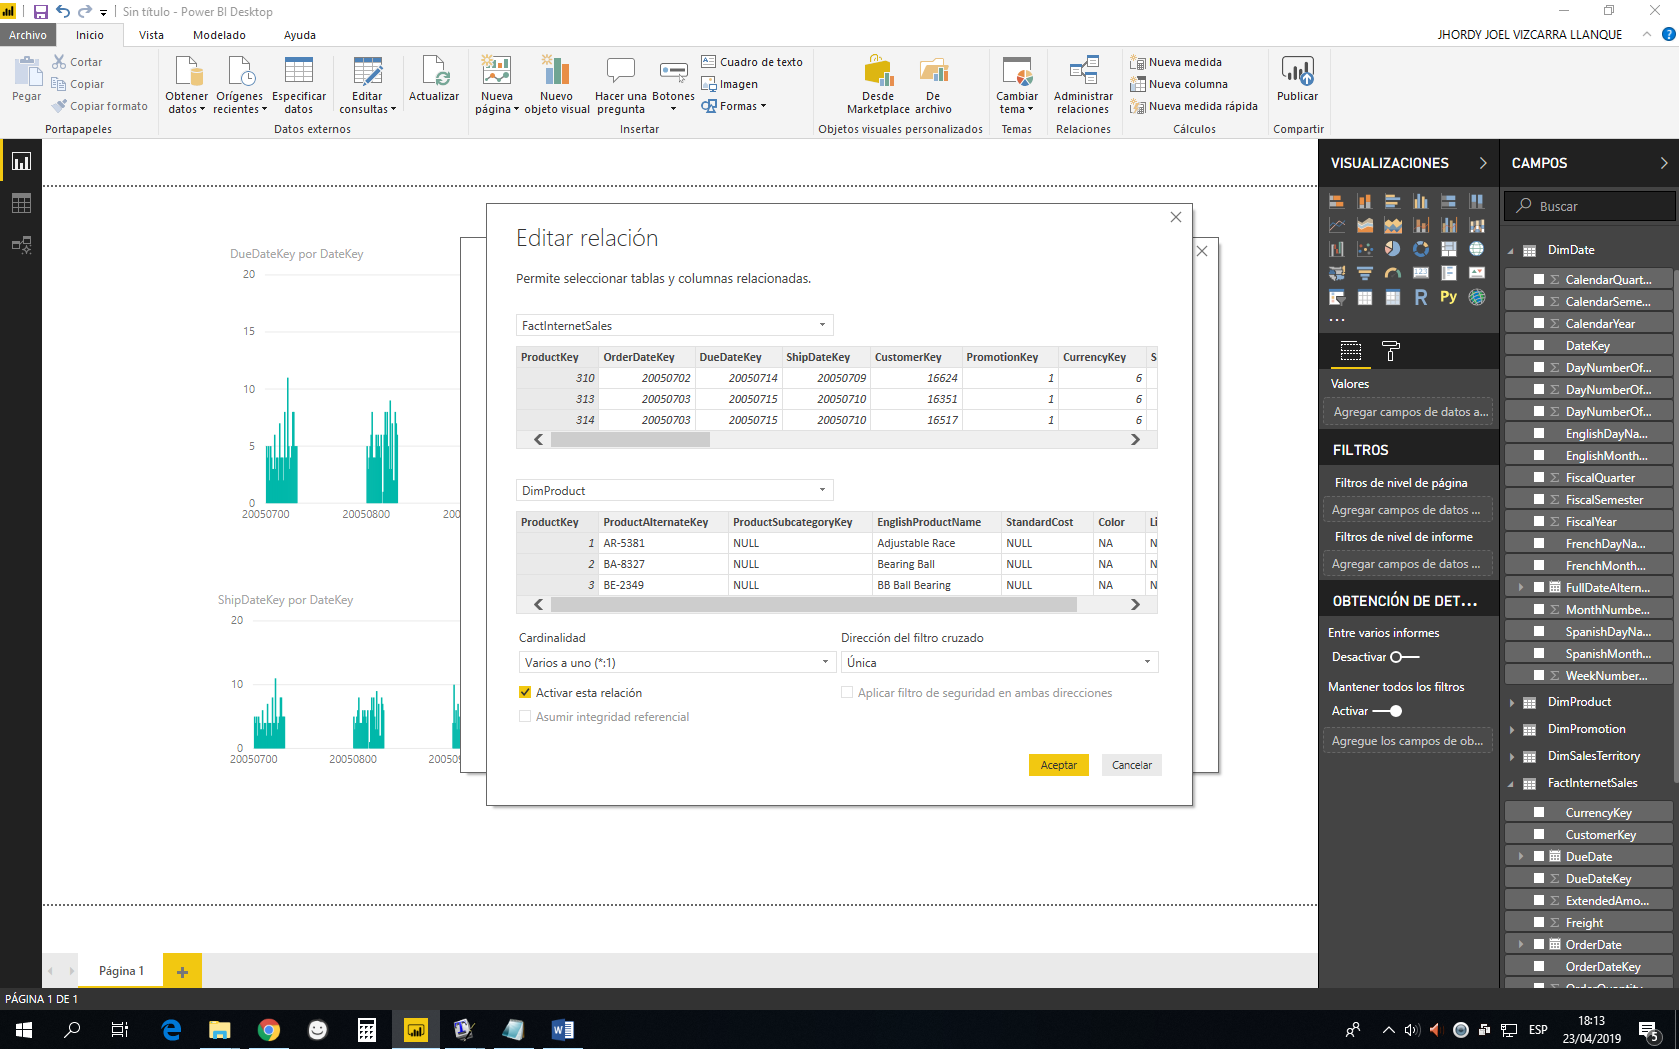

Layout of this report page (visuals, bound fields, positions):
{"tool":"powerbi","page":{"name":"Página 1","canvas":[1280,720],"ordinal":0},"visuals":[{"type":"clusteredColumnChart","fields":{"Y":["CountNonNull(FactInternetSales.DueDateKey)"],"Category":["DimDate.DateKey"]},"box":[183.6,58.2,626,287.9],"z":1},{"type":"clusteredColumnChart","fields":{"Y":["CountNonNull(FactInternetSales.ShipDateKey)"],"Category":["DimDate.DateKey"]},"box":[171.5,405.3,618.9,186.6],"z":2}]}

Visuals, with their boxes on the page's 1280x720 design canvas (x1, y1, x2, y2). These are canvas units, not pixel positions in the 1679x1049 screenshot, which may show the page scaled, cropped or inside an application window:
clusteredColumnChart - CountNonNull(FactInternetSales.DueDateKey) x DimDate.DateKey: l=184, t=58, r=810, b=346
clusteredColumnChart - CountNonNull(FactInternetSales.ShipDateKey) x DimDate.DateKey: l=172, t=405, r=790, b=592
